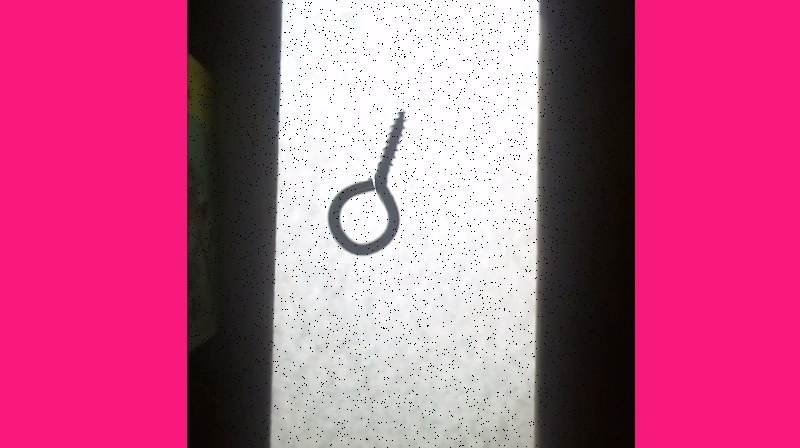O001: (324, 106, 409, 260)
